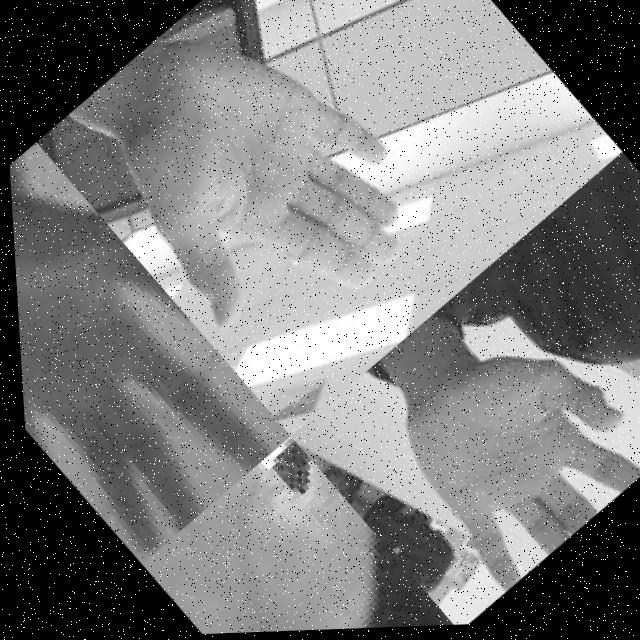hand: (42, 0, 454, 392), (7, 142, 289, 567), (358, 301, 640, 601), (128, 433, 426, 637)
